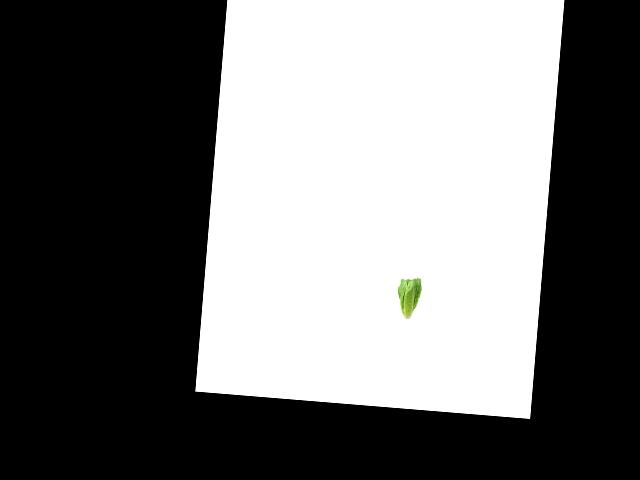lettuce: (391, 274, 426, 321)
